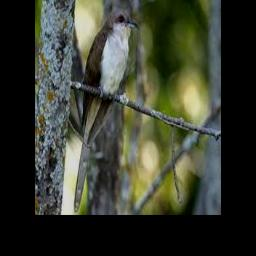Cuckoo: (74, 9, 140, 212)
